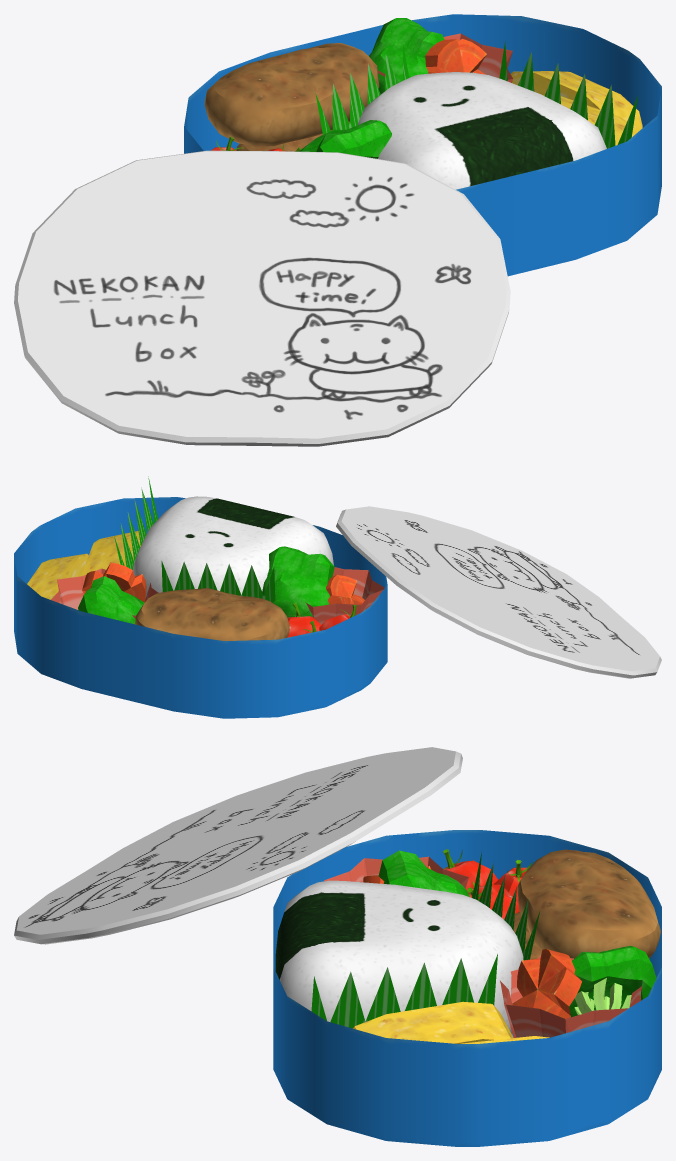
Rendered from Lunchbox.glb.
3 views of the same model, one above another, from view 1: azimuth 30°, elevation 25°; view 2: azimuth 150°, elevation 25°; view 3: azimuth 270°, elevation 25° (orthographic). The views are drawn at different scales.
Parts seen in each view (by area): view 1: Object_3, Object_2, Object_4, Object_8, Object_6, Object_10, Object_9, Object_7, Object_5; view 2: Object_2, Object_3, Object_4, Object_8, Object_6, Object_10, Object_9, Object_5, Object_7, Object_11; view 3: Object_2, Object_3, Object_4, Object_8, Object_6, Object_10, Object_9, Object_5, Object_7, Object_11.
Boxes of the visible parts, x1,y1,x2,y2 form: Object_3: (14,150,510,446); Object_2: (184,14,661,276); Object_4: (357,72,606,189); Object_8: (204,43,379,151); Object_6: (299,18,444,158); Object_10: (315,41,637,148); Object_9: (510,71,642,145); Object_7: (425,39,486,74); Object_5: (377,33,512,82); Object_2: (14,497,387,718); Object_3: (336,506,661,678); Object_4: (133,496,333,598); Object_8: (135,588,289,640); Object_6: (78,546,334,624); Object_10: (114,476,275,602); Object_9: (27,531,140,599); Object_5: (51,567,384,624); Object_7: (82,562,364,604); Object_11: (287,602,356,637); Object_2: (273,830,661,1146); Object_3: (14,747,462,944); Object_4: (275,880,523,1033); Object_8: (513,849,660,959); Object_6: (378,850,656,1017); Object_10: (311,851,540,1028); Object_9: (353,1001,549,1043); Object_5: (324,856,642,1037); Object_7: (363,866,581,1018); Object_11: (443,849,532,919).
Bounding box in the file's own units: 0.3925 × 0.0833 × 0.3088.
10 materials, 10 textured.
